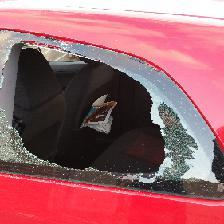broken_part: (112, 68, 185, 185)
